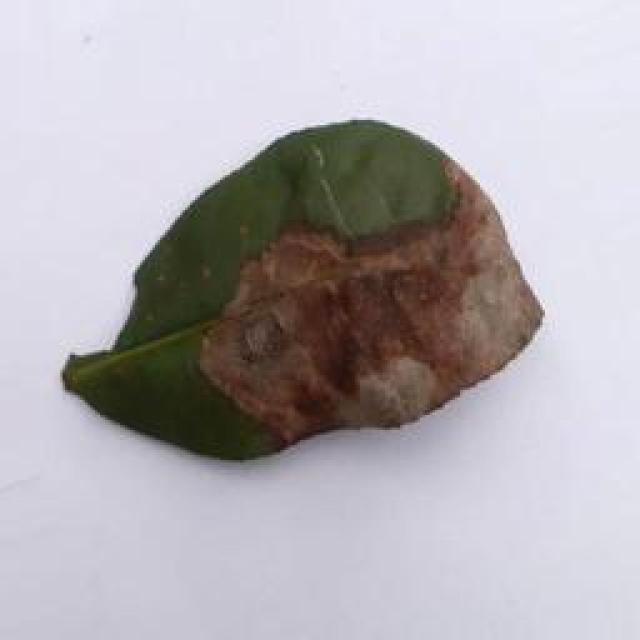Brown Blight: (52, 108, 554, 466)
